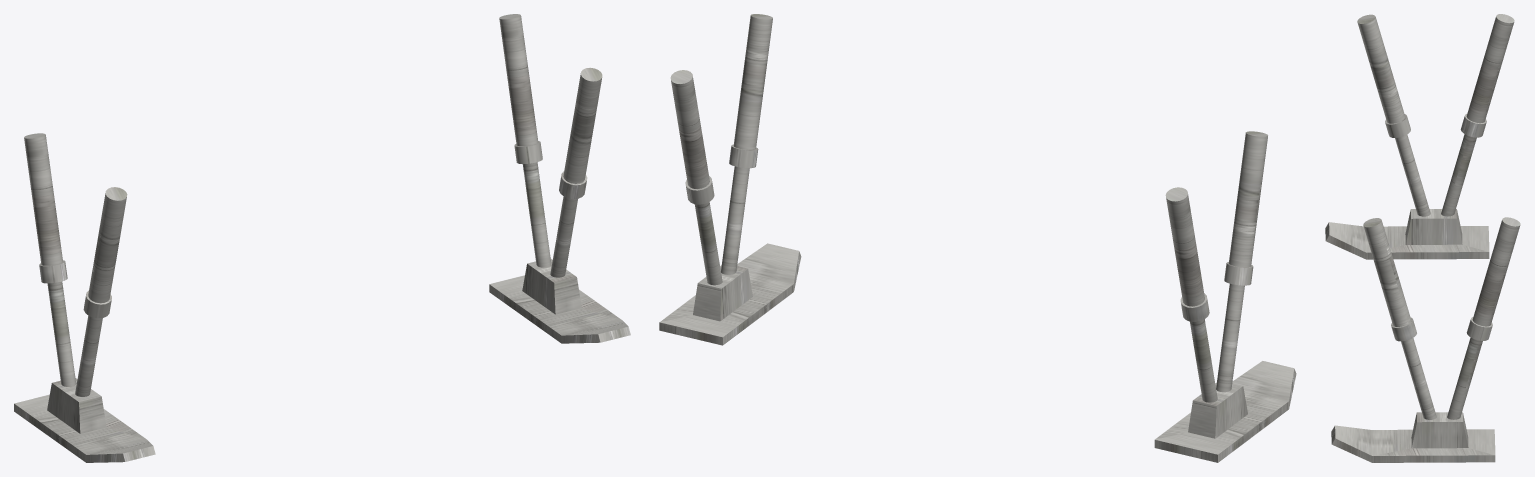
Rendered from patasAtras.obj.
3 views of the same model, side by side, from view 1: azimuth 30°, elevation 25°; view 2: azimuth 150°, elevation 25°; view 3: azimuth 270°, elevation 25° (orthographic). The views are drawn at different scales.
Visible parts, largest first — view 1: HULL_SIDE8; view 2: HULL_SIDE8; view 3: HULL_SIDE8.
Part boxes in pixels (<box>): HULL_SIDE8: <box>14,14,630,462</box>; HULL_SIDE8: <box>659,14,1296,462</box>; HULL_SIDE8: <box>1325,14,1520,462</box>.
Size of the model in its own units: 36.97 by 17.2 by 13.27.
1 material, 1 textured.
